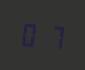seven: (42, 20, 64, 51)
zero: (19, 18, 41, 49)
